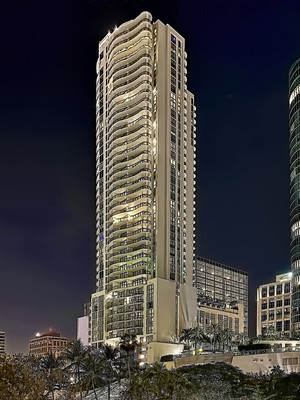low: (81, 8, 201, 364)
